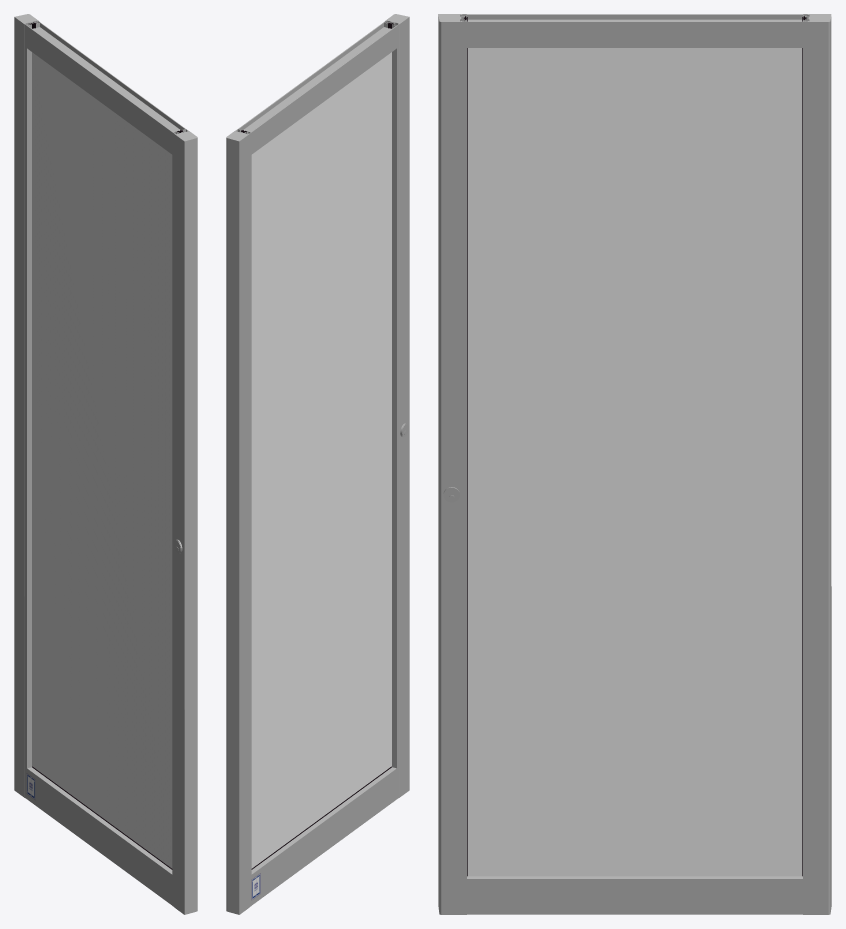
Rendered from D200_Slab.glb.
3 views of the same model, side by side, from view 1: azimuth 30°, elevation 25°; view 2: azimuth 150°, elevation 25°; view 3: azimuth 270°, elevation 25° (orthographic). The views are drawn at different scales.
Visible parts, largest first — view 1: Cube.001, PROFILE_curve_.020, D200, PROFILE_curve_.012, PROFILE_curve_.015; view 2: Cube.001, D200, PROFILE_curve_.020, PROFILE_curve_.012, PROFILE_curve_.015; view 3: Cube.001, D200, PROFILE_curve_.020, PROFILE_curve_.015, PROFILE_curve_.012, rubber_curve_.015, rubber_curve_.013.
Part boxes in pixels (box(x1,y1,x2,y2)): Cube.001: box(32, 52, 172, 868); PROFILE_curve_.020: box(172, 129, 197, 914); D200: box(14, 14, 40, 798); PROFILE_curve_.012: box(27, 22, 185, 154); PROFILE_curve_.015: box(27, 767, 172, 905); Cube.001: box(251, 52, 391, 868); D200: box(226, 129, 251, 914); PROFILE_curve_.020: box(383, 14, 409, 798); PROFILE_curve_.012: box(238, 22, 396, 154); PROFILE_curve_.015: box(251, 767, 396, 905); Cube.001: box(467, 48, 802, 876); D200: box(803, 14, 831, 914); PROFILE_curve_.020: box(438, 14, 466, 914); PROFILE_curve_.015: box(467, 876, 802, 914); PROFILE_curve_.012: box(467, 14, 802, 47); rubber_curve_.015: box(802, 18, 806, 876); rubber_curve_.013: box(464, 18, 467, 876).
Size of the model in its own units: 0.054 by 2.29 by 0.9144.
5 materials, 1 textured.
